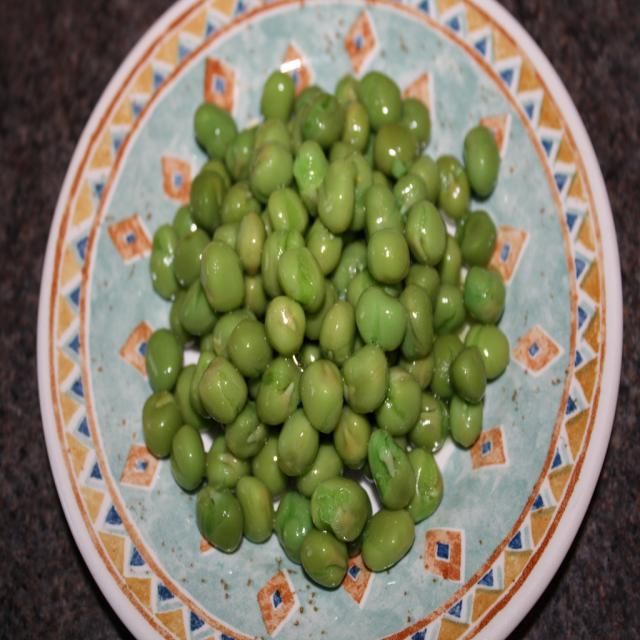pea: (173, 114, 464, 573)
